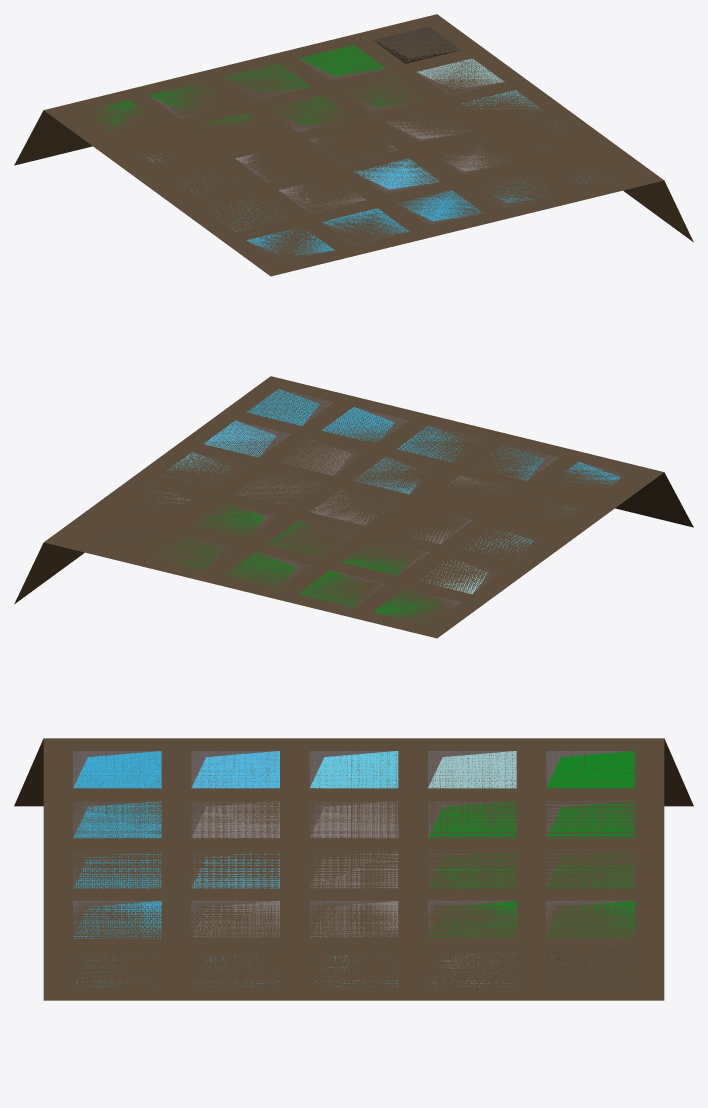
The model's file is inv_puzzle_box_3.obj.
3 renders of one model, top to bottom at view 1: azimuth 30°, elevation 25°; view 2: azimuth 150°, elevation 25°; view 3: azimuth 270°, elevation 25°, orthographic. The views are drawn at different scales.
Bounding box in the file's own units: 0.3594 × 0.0469 × 0.3594.
